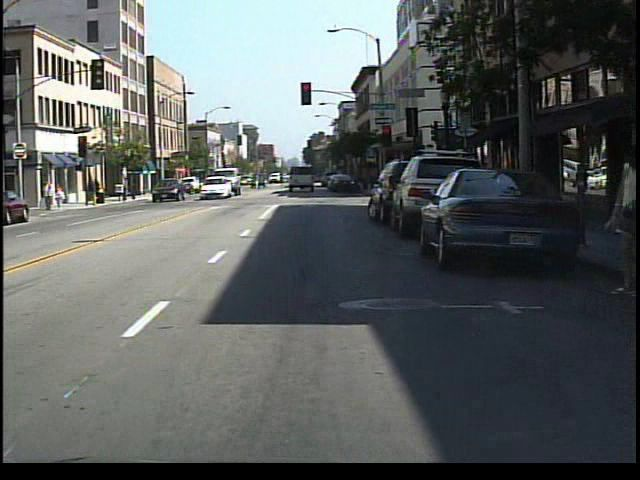person: (41, 179, 55, 214), (53, 181, 68, 209)
